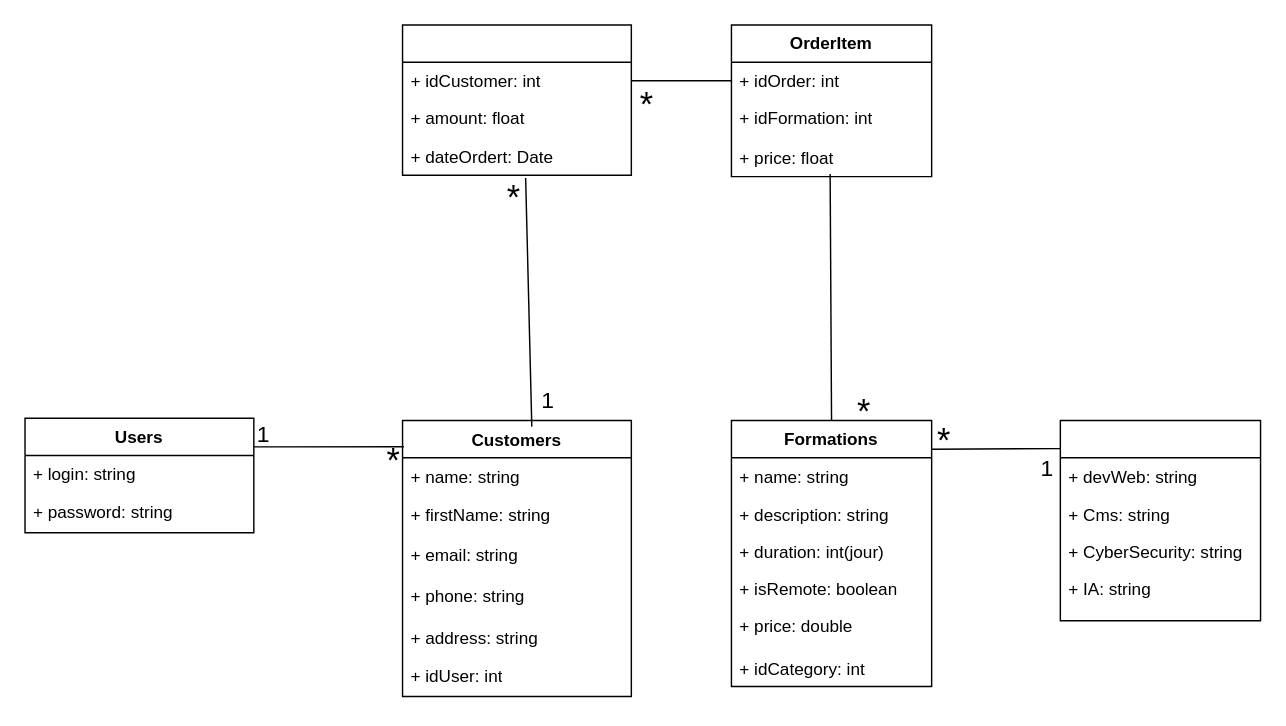
The diagram is 1286 pixels wide and 726 high, and some of its shapes have lost their labels. The box of each missing label's shape, as (x1, y1, x2, y2) in pixels:
Categories: (1059, 419, 1261, 621)
Orders: (401, 24, 631, 175)
